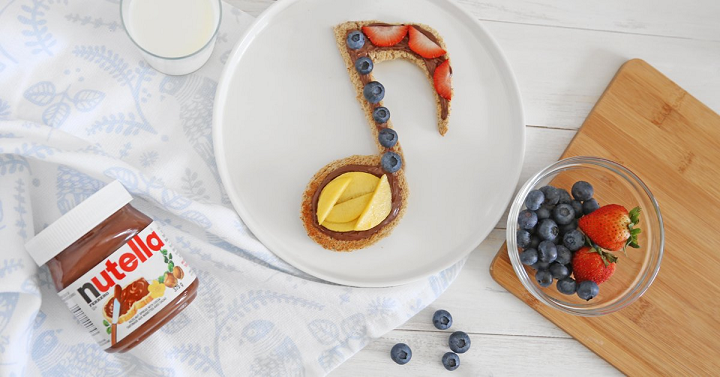nutella: (24, 176, 200, 355)
